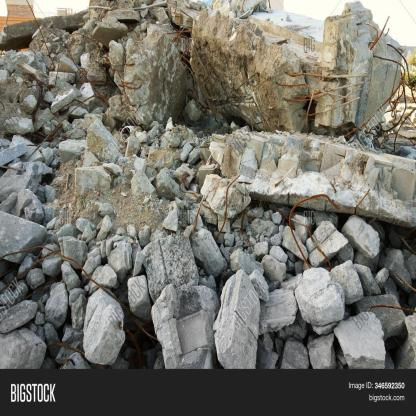rebar: (3, 232, 164, 350), (347, 41, 416, 155), (26, 81, 113, 159), (275, 66, 371, 122), (286, 190, 343, 277), (168, 12, 208, 102), (27, 4, 58, 70), (99, 54, 133, 109), (67, 24, 102, 76), (215, 174, 238, 244), (180, 181, 206, 233), (362, 17, 391, 51), (27, 70, 47, 119)
